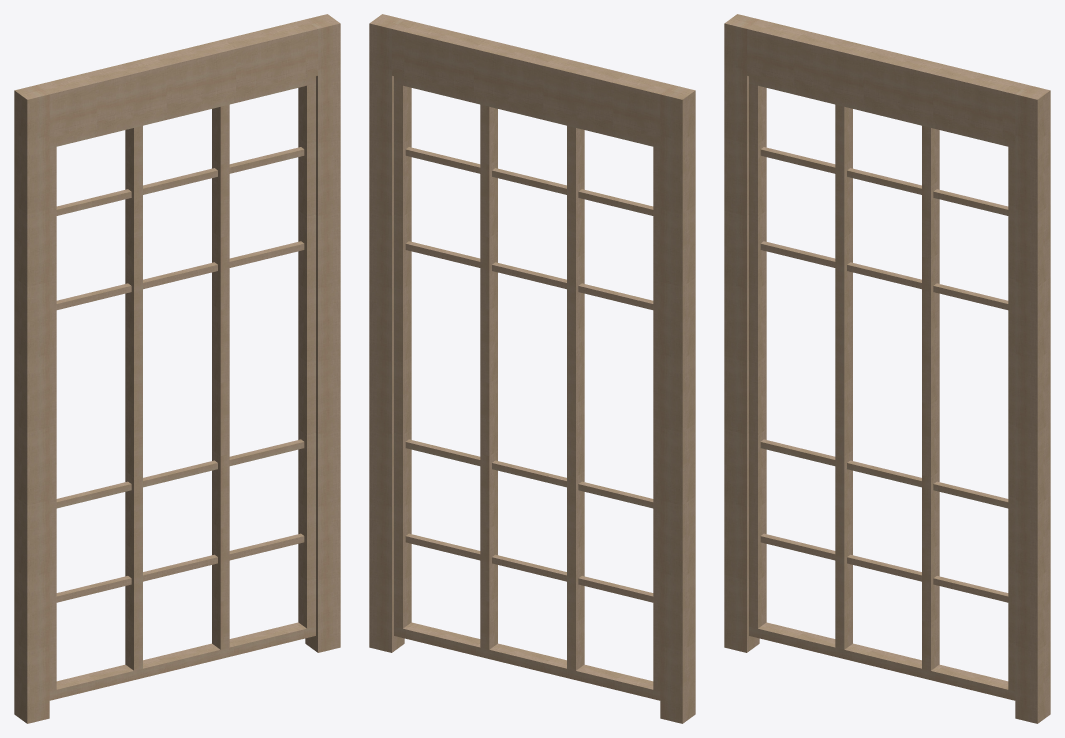
File: es-kyomatiya-kasumi_h2000_kareiro.fbx
3 renders of one model, left to right at view 1: azimuth 30°, elevation 25°; view 2: azimuth 150°, elevation 25°; view 3: azimuth 330°, elevation 25°, orthographic.
Parts seen in each view (by area): view 1: es-kyomatiya-kasumi_h2000_kakicha.002; view 2: es-kyomatiya-kasumi_h2000_kakicha.002; view 3: es-kyomatiya-kasumi_h2000_kakicha.002.
Part boxes in pixels (x1,y1,x2,y2): es-kyomatiya-kasumi_h2000_kakicha.002: (14,14,340,723); es-kyomatiya-kasumi_h2000_kakicha.002: (369,14,695,723); es-kyomatiya-kasumi_h2000_kakicha.002: (724,14,1050,723).
Size of the model in its own units: 105 by 200 by 7.5.
2 materials, 2 textured.
